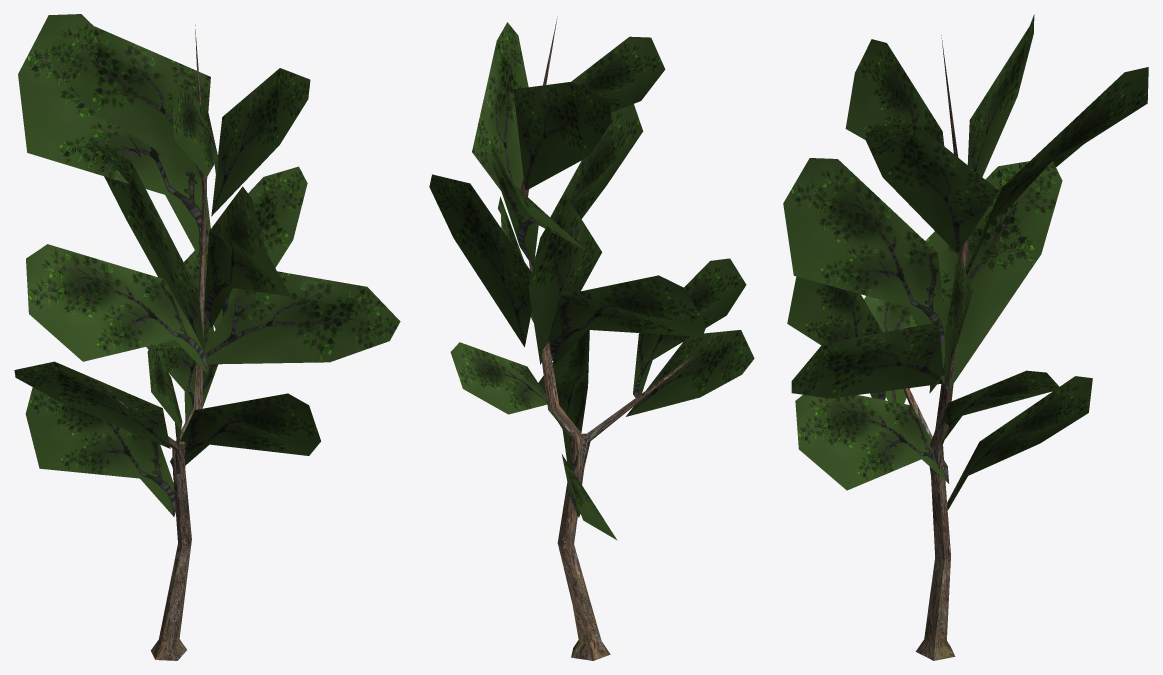
The model's file is tree_4_lod.fbx.
The picture shows the model from 3 angles, left to right: view 1: azimuth 30°, elevation 25°; view 2: azimuth 150°, elevation 25°; view 3: azimuth 270°, elevation 25°; orthographic projection. The views are drawn at different scales.
Visible parts, largest first — view 1: Mesh Object; view 2: Mesh Object; view 3: Mesh Object.
Part boxes in pixels (left/top/right/bottom): Mesh Object: left=14, top=14, right=400, bottom=660; Mesh Object: left=429, top=16, right=754, bottom=660; Mesh Object: left=783, top=14, right=1148, bottom=660.
Size of the model in its own units: 5.71 by 10.62 by 5.55.
